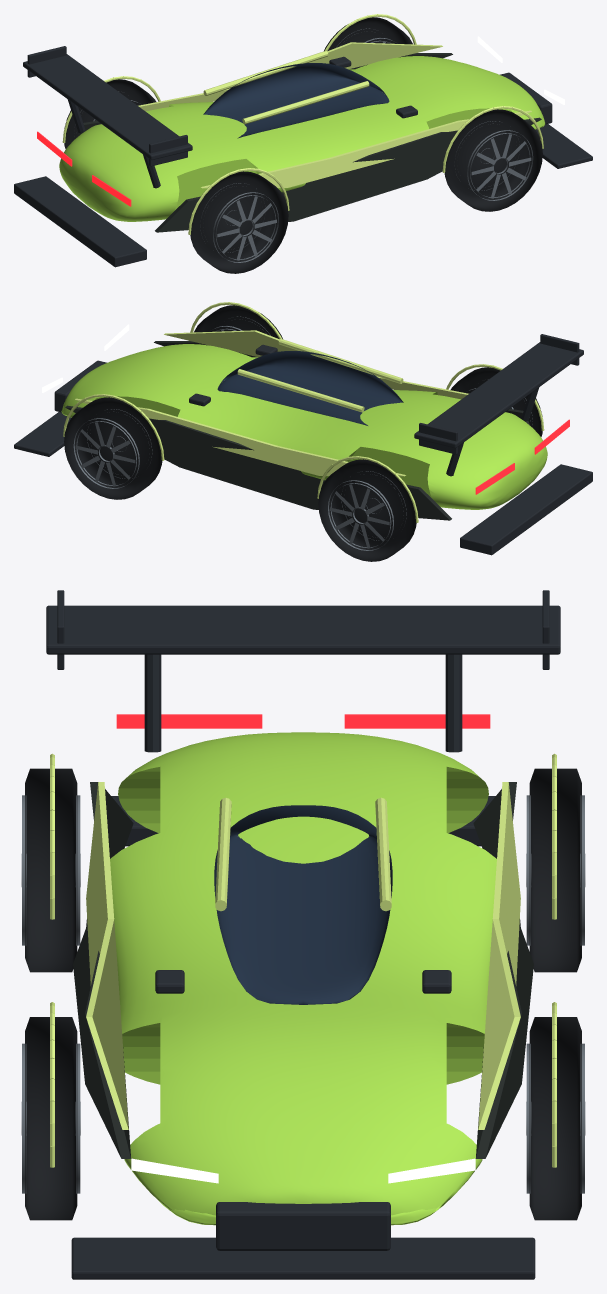
Rendered from sable-original.glb.
The picture shows the model from 3 angles, top to bottom: view 1: azimuth 30°, elevation 25°; view 2: azimuth 150°, elevation 25°; view 3: azimuth 270°, elevation 25°; orthographic projection. The views are drawn at different scales.
Parts seen in each view (by area): view 1: Body, WheelFrontRight, WheelRearRight, WheelFrontLeft, WheelRearLeft; view 2: Body, WheelFrontLeft, WheelRearLeft, WheelFrontRight, WheelRearRight; view 3: Body, WheelRearLeft, WheelRearRight, WheelFrontLeft, WheelFrontRight.
Part boxes in pixels (x1,y1,x2,y2): Body: (14, 14, 592, 267); WheelFrontRight: (444, 109, 542, 211); WheelRearRight: (190, 171, 288, 273); WheelFrontLeft: (324, 17, 412, 50); WheelRearLeft: (64, 79, 156, 148); Body: (14, 302, 592, 555); WheelFrontLeft: (64, 397, 162, 499); WheelRearLeft: (318, 459, 416, 561); WheelFrontRight: (194, 305, 282, 338); WheelRearRight: (450, 367, 542, 436); Body: (46, 590, 560, 1279); WheelRearLeft: (526, 768, 585, 972); WheelRearRight: (21, 768, 80, 972); WheelFrontLeft: (526, 1017, 585, 1220); WheelFrontRight: (21, 1017, 80, 1220).
Size of the model in its own units: 4.48 by 1.31 by 2.34.
